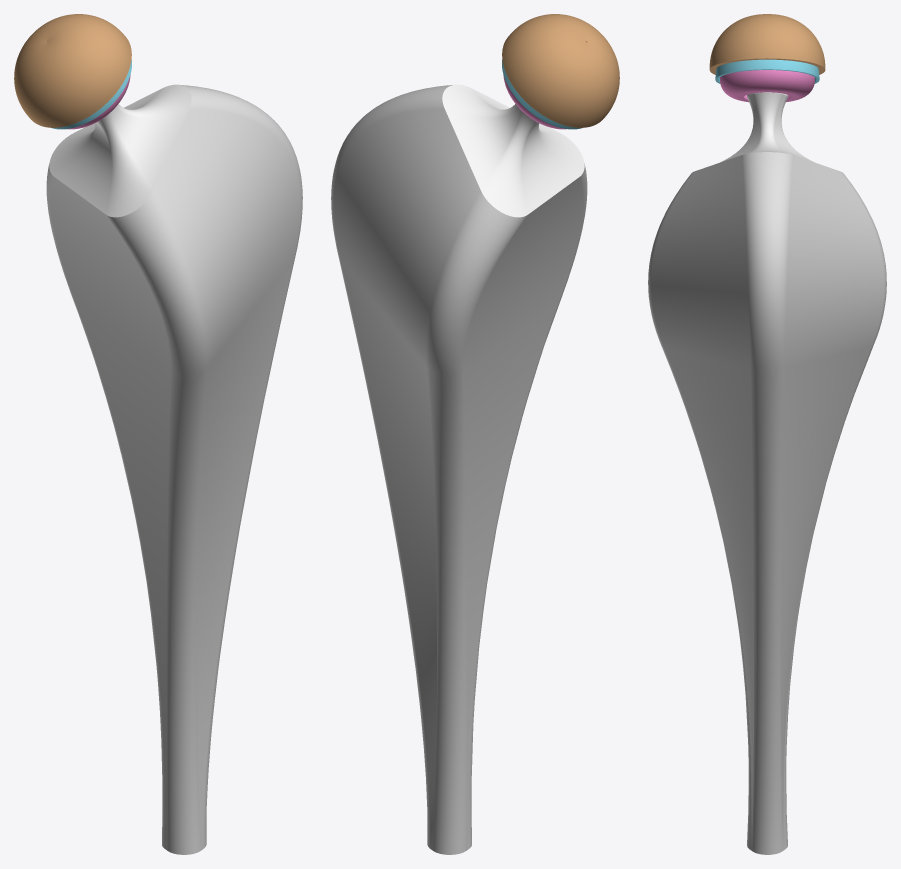
Rendered from prosthetic-hip.glb.
The picture shows the model from 3 angles, left to right: view 1: azimuth 30°, elevation 25°; view 2: azimuth 150°, elevation 25°; view 3: azimuth 270°, elevation 25°; orthographic projection. The views are drawn at different scales.
Bounding box in the file's own units: 0.0499 × 0.1466 × 0.0406.
